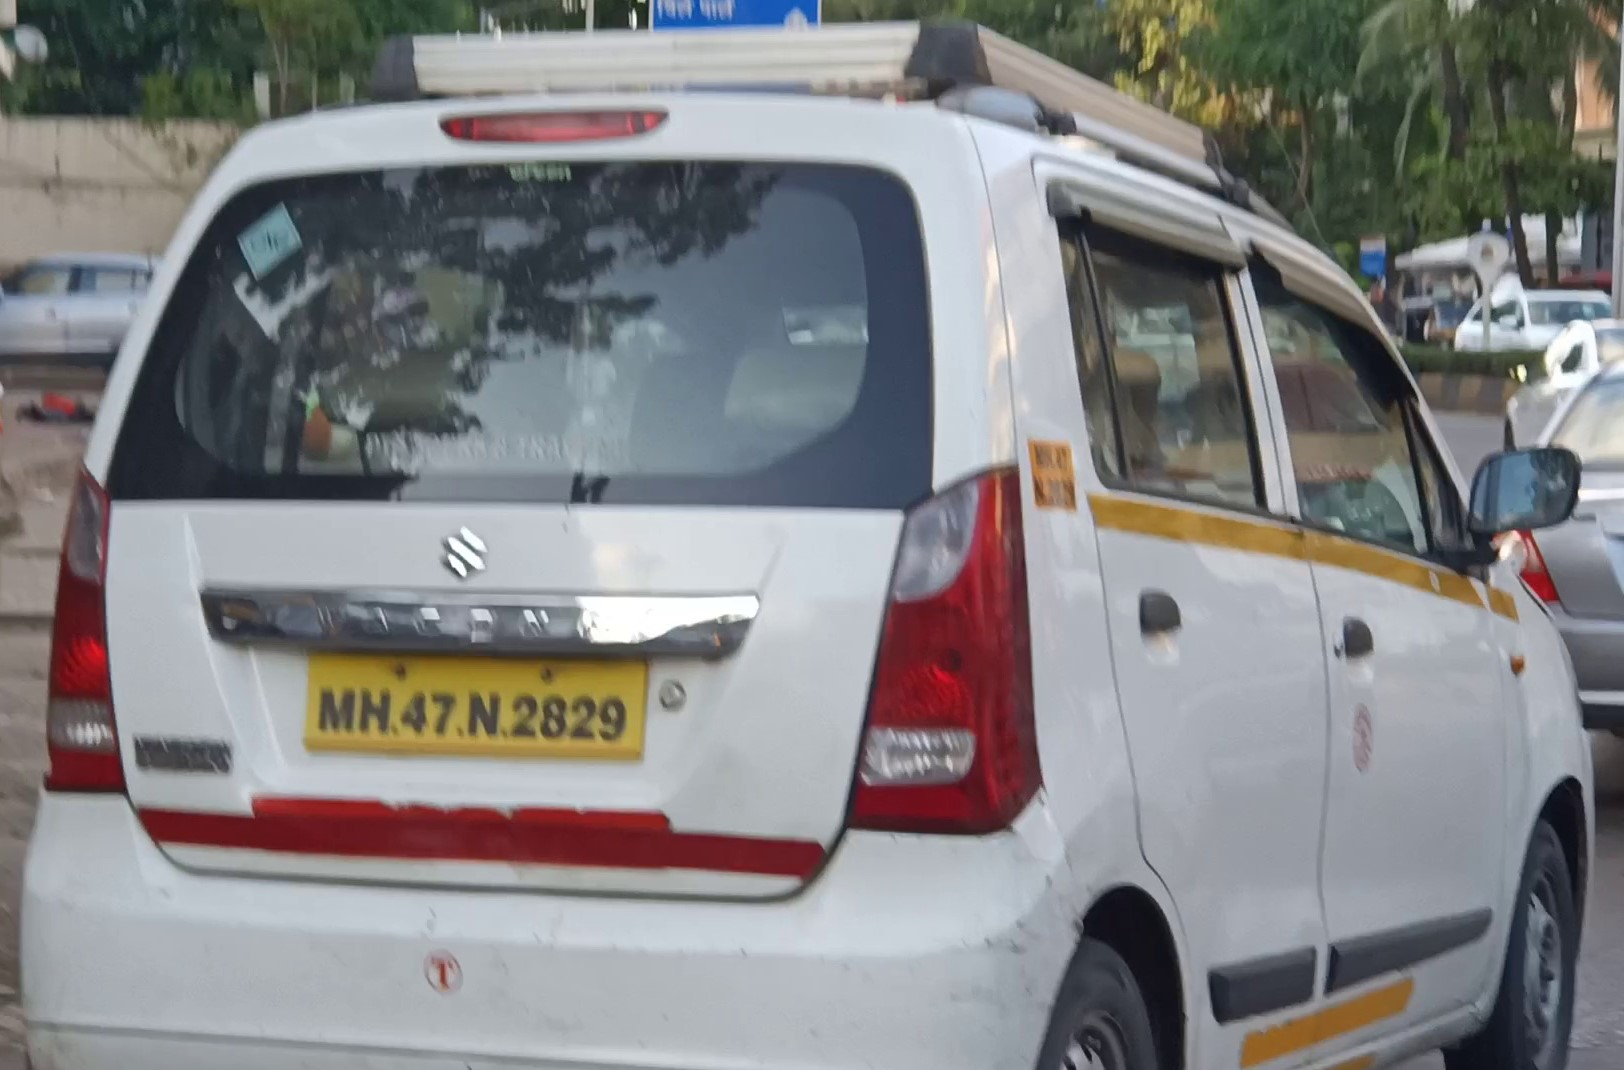MH47N2829: (307, 651, 648, 761)
